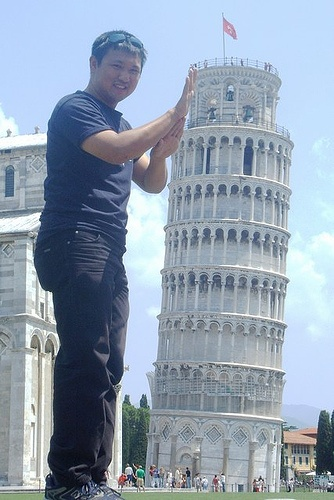car: (328, 478, 332, 492)
person: (32, 3, 197, 500), (114, 462, 137, 490), (285, 460, 295, 498), (134, 461, 144, 494), (118, 470, 129, 486), (255, 474, 264, 493), (148, 464, 155, 487), (126, 466, 134, 486), (173, 467, 180, 489), (184, 465, 190, 489), (287, 474, 294, 492), (159, 466, 165, 486), (180, 468, 186, 488), (212, 473, 218, 492), (194, 473, 200, 492), (167, 469, 173, 488), (153, 468, 159, 486), (219, 472, 224, 493), (200, 476, 206, 492), (252, 477, 258, 492), (172, 473, 177, 491), (261, 476, 266, 493), (203, 477, 208, 491), (149, 464, 156, 474)
